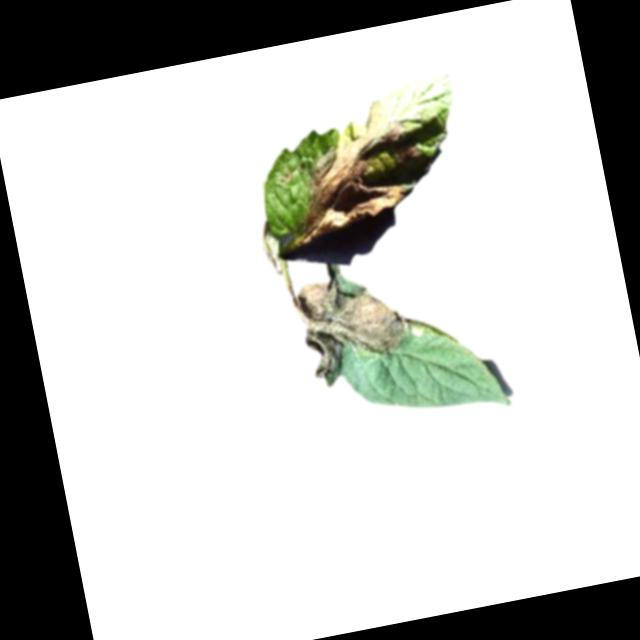Late_blight: (274, 91, 440, 244), (290, 265, 417, 391)
